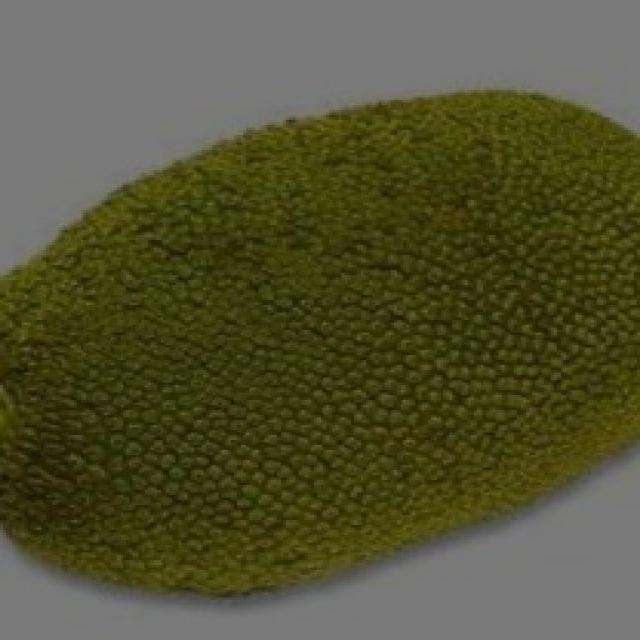Fruit: (258, 68, 640, 510), (0, 290, 385, 638)
